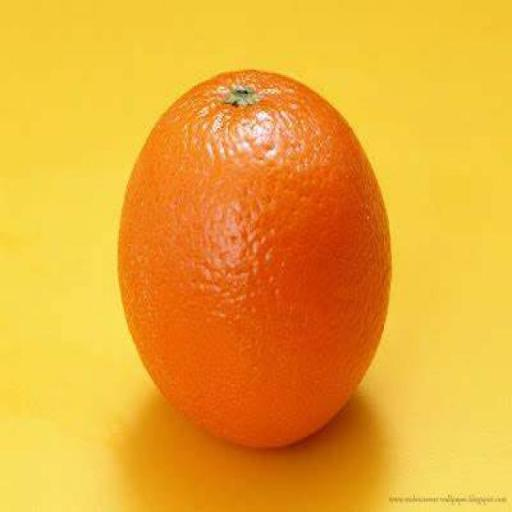fruit: (119, 71, 390, 446)
